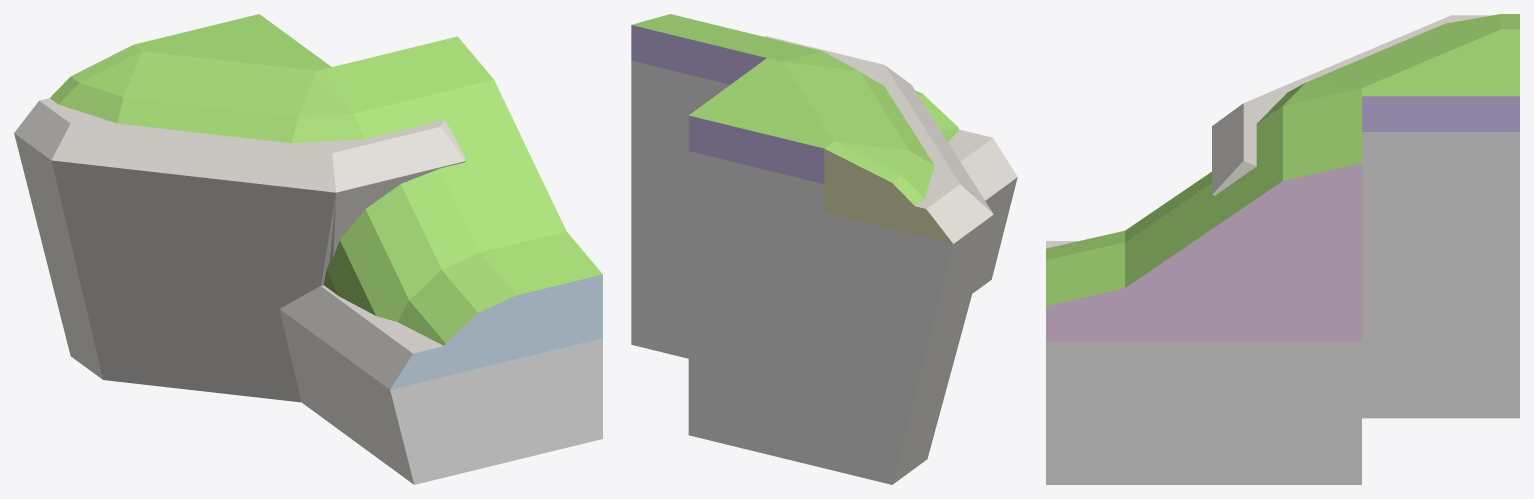
The model's file is Waterfall_Left_Top_Terrain_3x3.fbx.
3 views of the same model, side by side, from view 1: azimuth 30°, elevation 25°; view 2: azimuth 150°, elevation 25°; view 3: azimuth 270°, elevation 25° (orthographic). The views are drawn at different scales.
Visible parts, largest first — view 1: Waterfall_Left_Top_Terrain_3x3; view 2: Waterfall_Left_Top_Terrain_3x3; view 3: Waterfall_Left_Top_Terrain_3x3.
Part boxes in pixels (x1,y1,x2,y2): Waterfall_Left_Top_Terrain_3x3: (14,14,602,484); Waterfall_Left_Top_Terrain_3x3: (631,14,1017,484); Waterfall_Left_Top_Terrain_3x3: (1046,14,1519,484).
Size of the model in its own units: 295 by 225 by 300.
